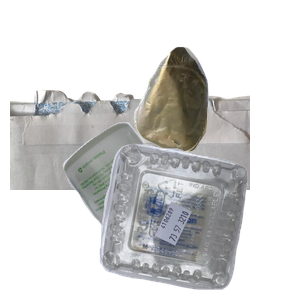glass: (60, 120, 300, 300)
paper: (10, 84, 250, 264)
plastic: (97, 141, 300, 300)
trash: (131, 44, 300, 189)
